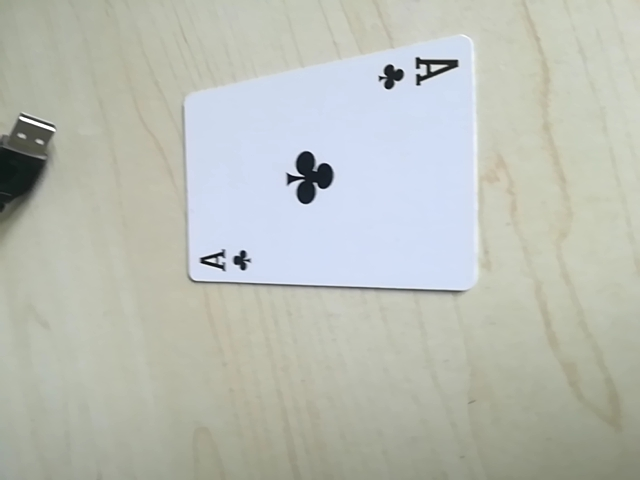mh a: (373, 49, 465, 99), (193, 240, 259, 280)
